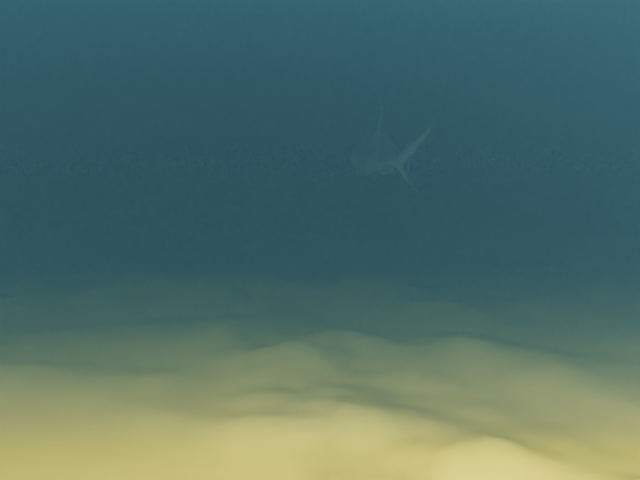Carribean Shark.001: (312, 109, 444, 192)
